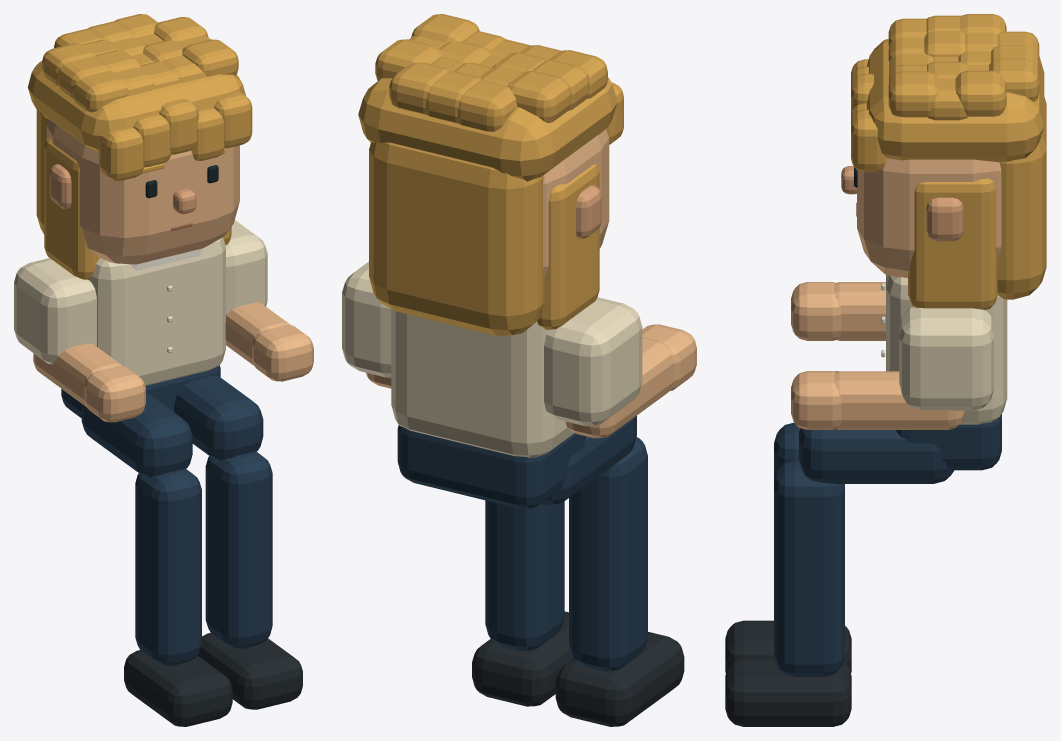
Rendered from employee_seated_blond.glb.
3 views of the same model, side by side, from view 1: azimuth 30°, elevation 25°; view 2: azimuth 150°, elevation 25°; view 3: azimuth 270°, elevation 25° (orthographic). The views are drawn at different scales.
Parts seen in each view (by area): view 1: employee_seated_blond__blond, employee_seated_blond__pants.001, employee_seated_blond__pants, employee_seated_blond__cream_shirt, employee_seated_blond__skin_light.002, employee_seated_blond__cream_shirt.001, employee_seated_blond__shoe, employee_seated_blond__skin_light, employee_seated_blond__shoe.001, employee_seated_blond__skin_light.001, employee_seated_blond__cream_shirt.002, employee_seated_blond__skin.001 (+2 smaller); view 2: employee_seated_blond__blond, employee_seated_blond__cream_shirt, employee_seated_blond__pants, employee_seated_blond__pants.001, employee_seated_blond__cream_shirt.001, employee_seated_blond__pants.002, employee_seated_blond__shoe, employee_seated_blond__shoe.001, employee_seated_blond__skin_light, employee_seated_blond__cream_shirt.002, employee_seated_blond__skin_light.002, employee_seated_blond__skin.001; view 3: employee_seated_blond__blond, employee_seated_blond__pants.001, employee_seated_blond__cream_shirt.002, employee_seated_blond__skin_light.002, employee_seated_blond__skin_light.001, employee_seated_blond__shoe.001, employee_seated_blond__skin_light, employee_seated_blond__cream_shirt, employee_seated_blond__pants.002, employee_seated_blond__shoe, employee_seated_blond__skin.001, employee_seated_blond__pants.
Part boxes in pixels (<box>): employee_seated_blond__blond: <box>27,14,252,279</box>; employee_seated_blond__pants.001: <box>174,376,272,648</box>; employee_seated_blond__pants: <box>81,393,201,665</box>; employee_seated_blond__cream_shirt: <box>88,237,225,385</box>; employee_seated_blond__skin_light.002: <box>46,119,239,264</box>; employee_seated_blond__cream_shirt.001: <box>14,258,96,364</box>; employee_seated_blond__shoe: <box>124,650,232,726</box>; employee_seated_blond__skin_light: <box>33,343,145,422</box>; employee_seated_blond__shoe.001: <box>197,633,302,709</box>; employee_seated_blond__skin_light.001: <box>225,302,313,381</box>; employee_seated_blond__cream_shirt.002: <box>225,220,267,314</box>; employee_seated_blond__skin.001: <box>49,164,196,214</box>; employee_seated_blond__blond: <box>358,14,623,335</box>; employee_seated_blond__cream_shirt: <box>391,309,574,457</box>; employee_seated_blond__pants: <box>540,415,647,671</box>; employee_seated_blond__pants.001: <box>485,500,564,650</box>; employee_seated_blond__cream_shirt.001: <box>544,297,642,425</box>; employee_seated_blond__pants.002: <box>397,425,586,508</box>; employee_seated_blond__shoe: <box>555,632,684,726</box>; employee_seated_blond__shoe.001: <box>472,611,573,706</box>; employee_seated_blond__skin_light: <box>565,324,696,438</box>; employee_seated_blond__cream_shirt.002: <box>342,261,391,377</box>; employee_seated_blond__skin_light.002: <box>543,129,609,277</box>; employee_seated_blond__skin.001: <box>576,185,601,238</box>; employee_seated_blond__blond: <box>851,14,1046,309</box>; employee_seated_blond__pants.001: <box>774,428,953,676</box>; employee_seated_blond__cream_shirt.002: <box>899,306,993,410</box>; employee_seated_blond__skin_light.002: <box>857,158,1001,277</box>; employee_seated_blond__skin_light.001: <box>791,371,964,429</box>; employee_seated_blond__shoe.001: <box>725,658,851,726</box>; employee_seated_blond__skin_light: <box>791,282,885,340</box>; employee_seated_blond__cream_shirt: <box>886,274,1007,424</box>; employee_seated_blond__pants.002: <box>896,414,1001,470</box>; employee_seated_blond__shoe: <box>725,620,851,672</box>; employee_seated_blond__skin.001: <box>841,166,963,241</box>; employee_seated_blond__pants: <box>774,371,837,479</box>.
Size of the model in its own units: 0.535 by 1.36 by 0.61.
